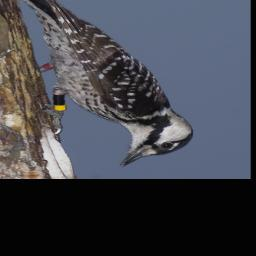Woodpecker: (8, 0, 196, 168)
